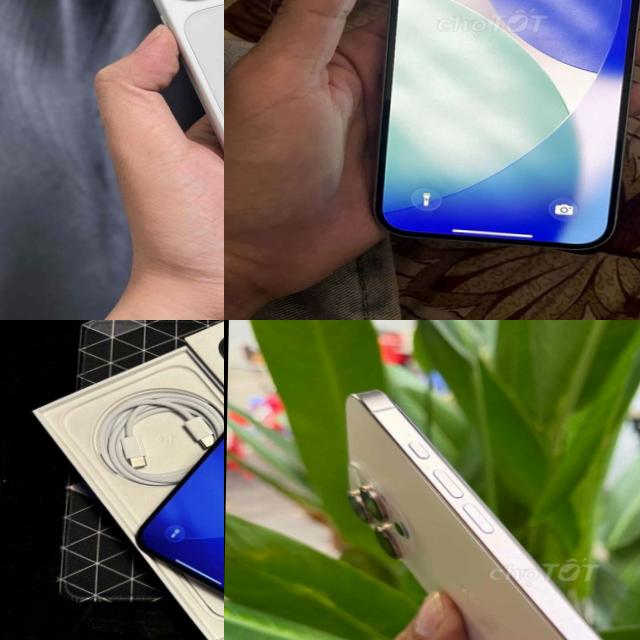gen_15: (341, 0, 640, 265), (127, 335, 224, 623)
gen_16: (346, 390, 603, 640)
gen_17: (124, 0, 224, 270)
